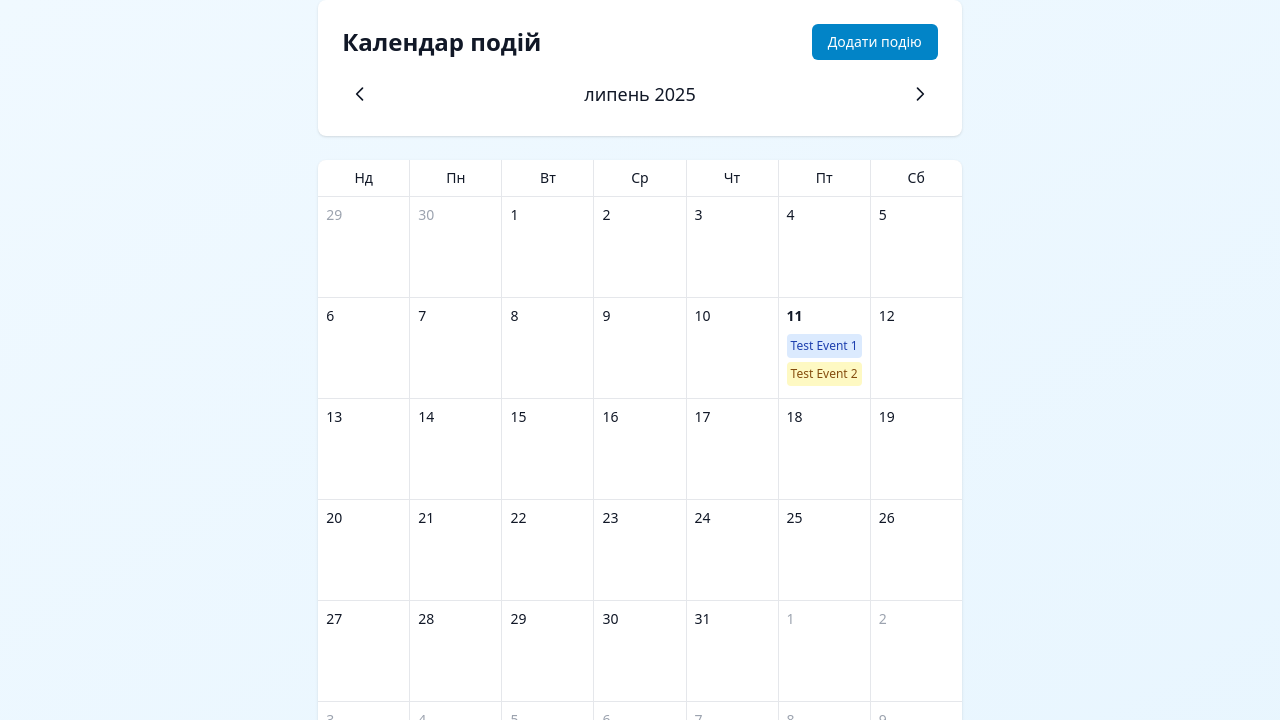
Test: CalendarView › shows add event modal when add button is clicked
Click the button "Додати подію" at (875, 42), box [812, 24, 938, 60]
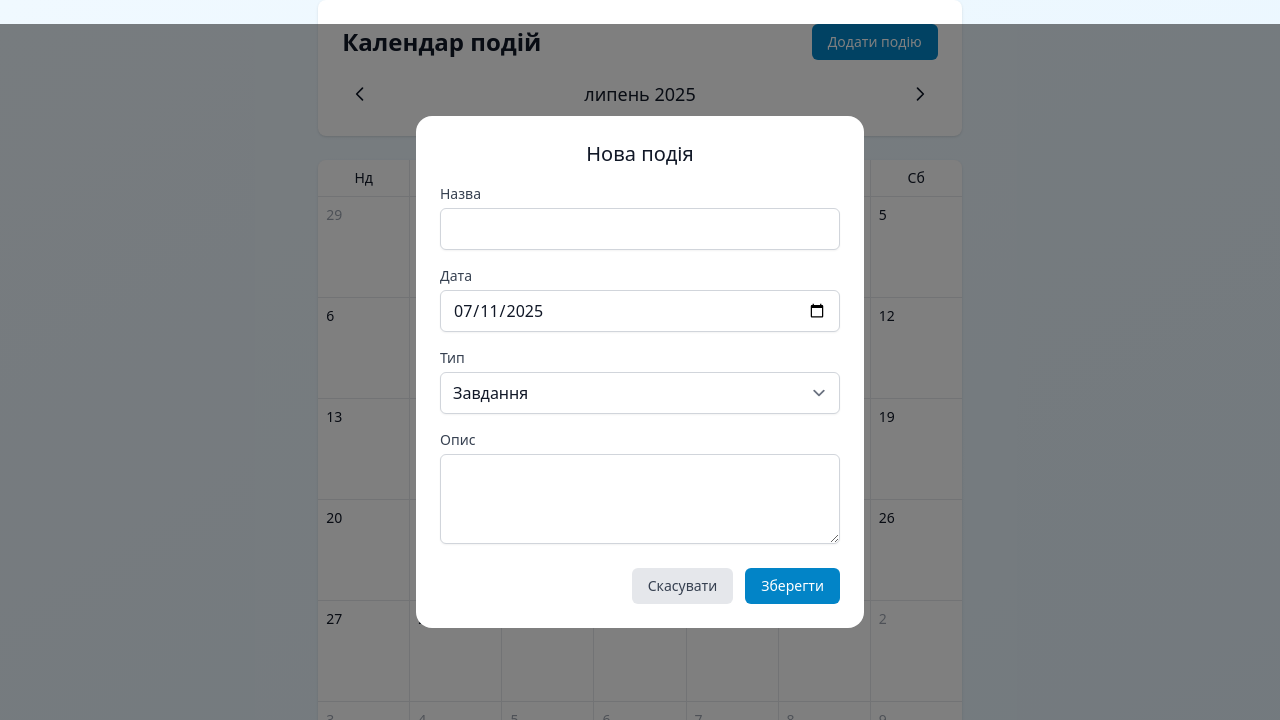
expect the element with class "inset-0" is shown: met
expect the heading "Нова подія" is shown: met, box [586, 140, 694, 167]
